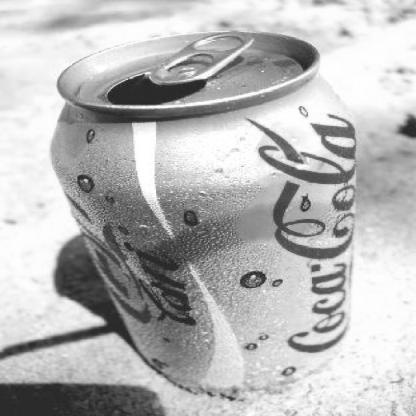alumunium_can: (50, 32, 358, 390)
